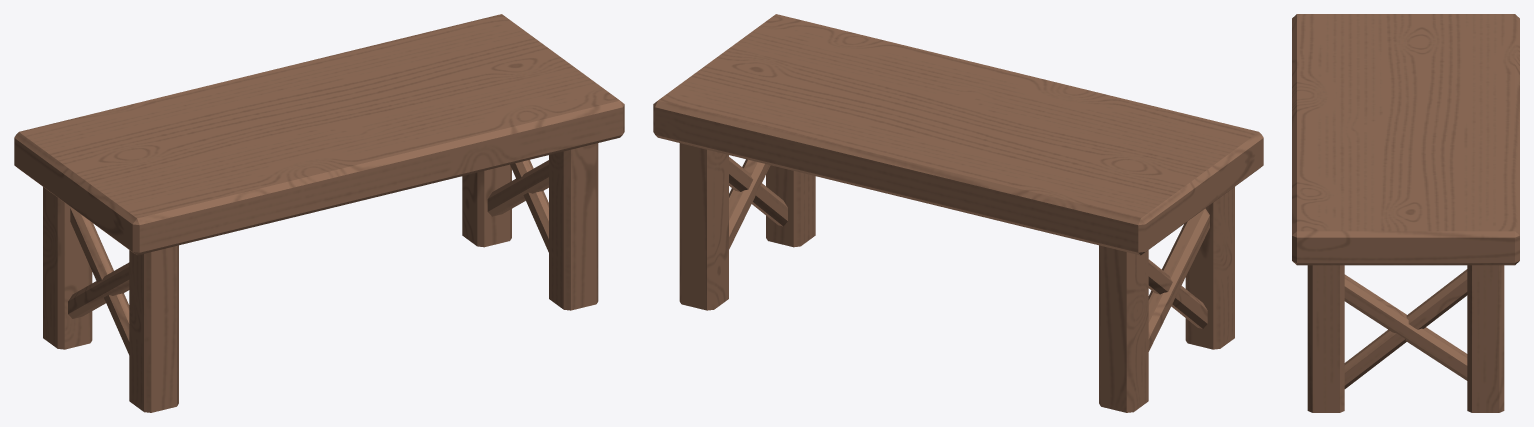
File: Workshop table.fbx
3 renders of one model, left to right at view 1: azimuth 30°, elevation 25°; view 2: azimuth 150°, elevation 25°; view 3: azimuth 270°, elevation 25°, orthographic. The views are drawn at different scales.
Parts seen in each view (by area): view 1: Workshop_table; view 2: Workshop_table; view 3: Workshop_table.
Part boxes in pixels (left/top/right/bottom): Workshop_table: left=14, top=14, right=624, bottom=412; Workshop_table: left=653, top=14, right=1263, bottom=412; Workshop_table: left=1292, top=14, right=1519, bottom=412.
Bounding box in the file's own units: 50.41 × 19.94 × 21.93.
